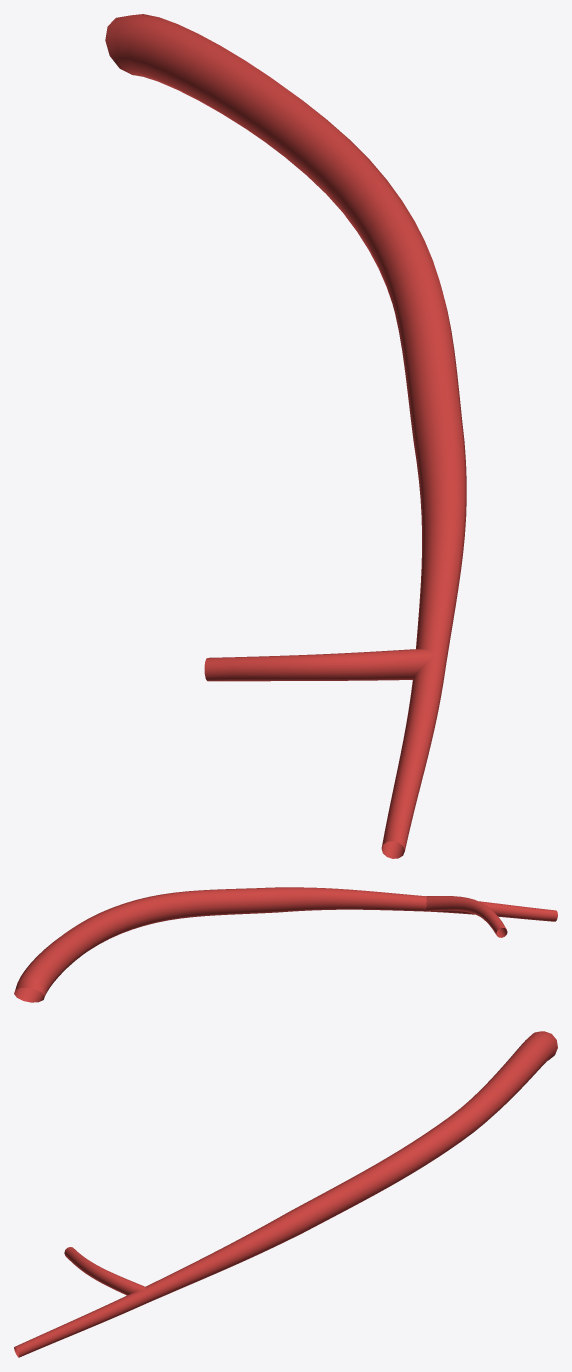
3 renders of one model, top to bottom at view 1: azimuth 30°, elevation 25°; view 2: azimuth 150°, elevation 25°; view 3: azimuth 330°, elevation 25°, orthographic. The views are drawn at different scales.
Parts seen in each view (by area): view 1: 左侧甲状腺下动脉; view 2: 左侧甲状腺下动脉; view 3: 左侧甲状腺下动脉.
Part boxes in pixels (x1,y1,x2,y2): 左侧甲状腺下动脉: (105,14,466,858); 左侧甲状腺下动脉: (14,887,557,1002); 左侧甲状腺下动脉: (14,1031,557,1357).
Size of the model in its own units: 0.0216 by 0.0114 by 0.0503.
